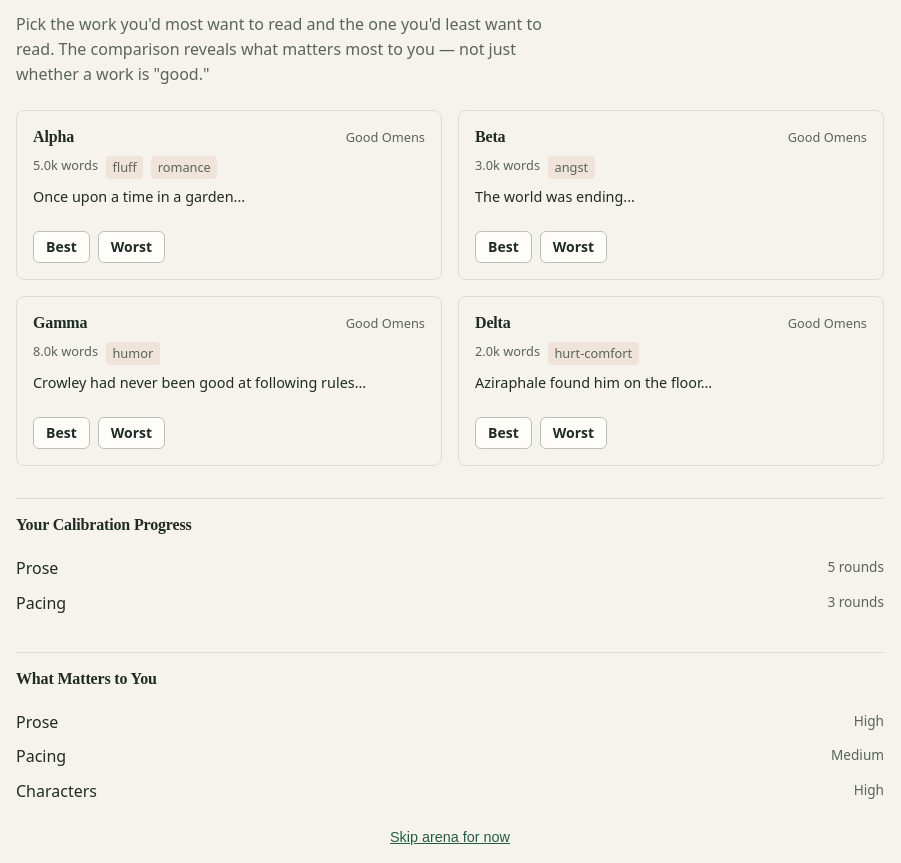
Test case: Taste Calibration Arena › dismisses the arena when Skip is clicked
The image size is (901, 863).
(page scrolled)
Expected: the heading "Alpha" is shown, [33,127,74,147]
Click the button "Skip arena for now".
click(450, 837)  # box [384,828,516,846]
(page scrolled)
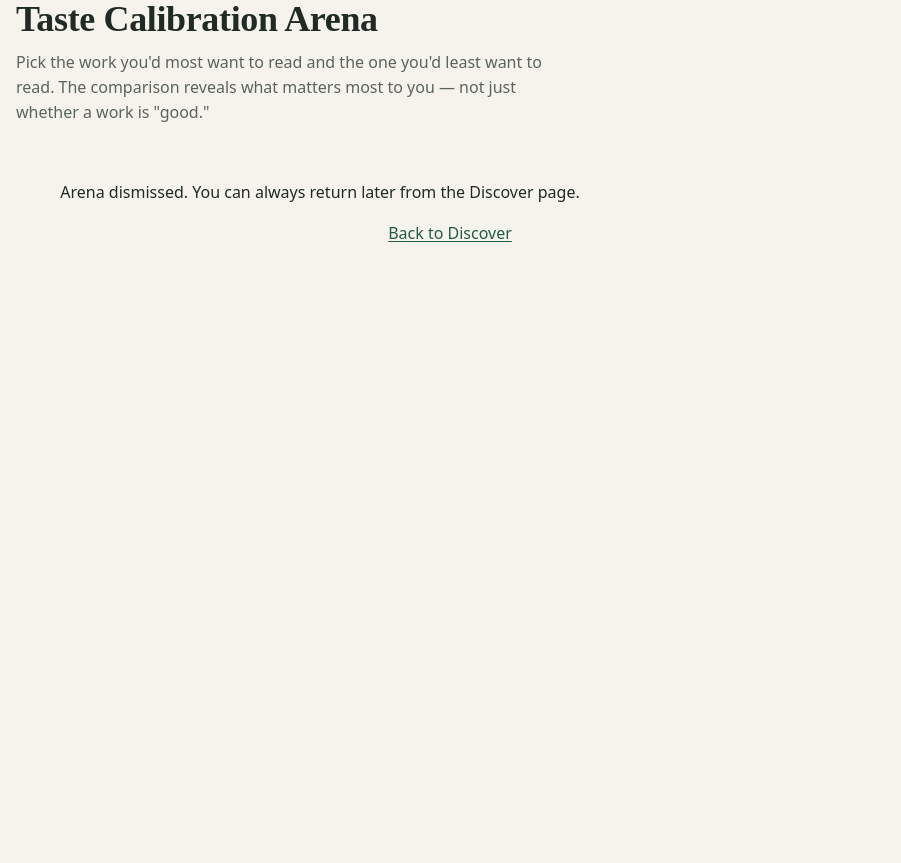
Expected: the text "Arena dismissed" is shown, [60,181,580,203]
